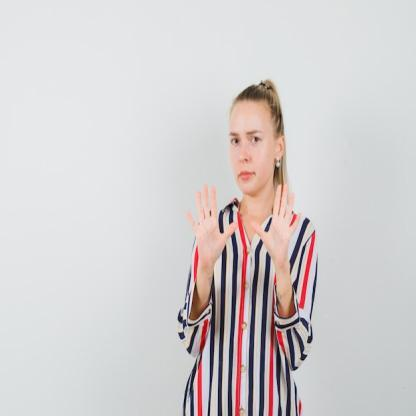stop: (184, 182, 240, 268), (248, 180, 302, 268)
